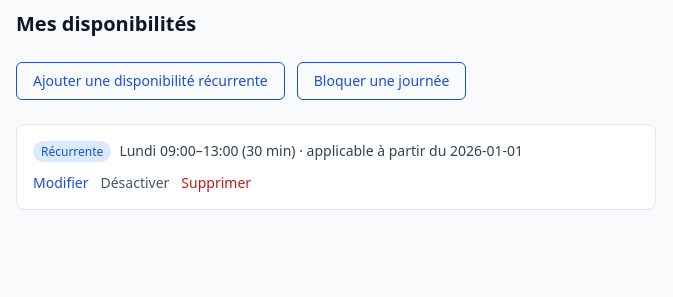
Scenario: DoctorAvailabilityPage › supprime une règle après confirmation
The width and height of the screenshot is (673, 297).
Check: the text "Récurrente" is shown, box top-left (33, 141), bottom-right (111, 162)
Click the button "Supprimer": (216, 183) top-left (181, 173), bottom-right (251, 193)
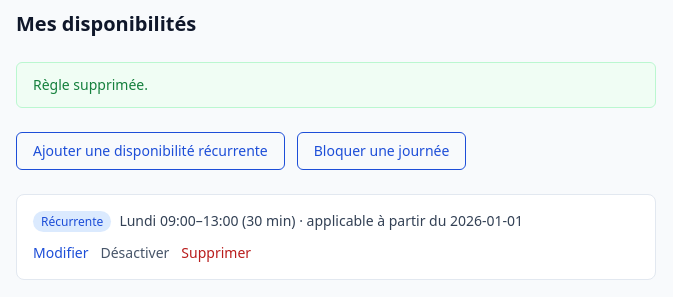
Check: the text "Règle supprimée." is shown, box top-left (16, 62), bottom-right (656, 108)
